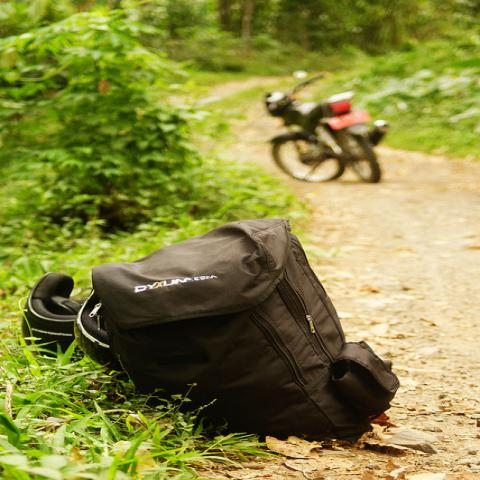motorcycle: (261, 68, 389, 187)
